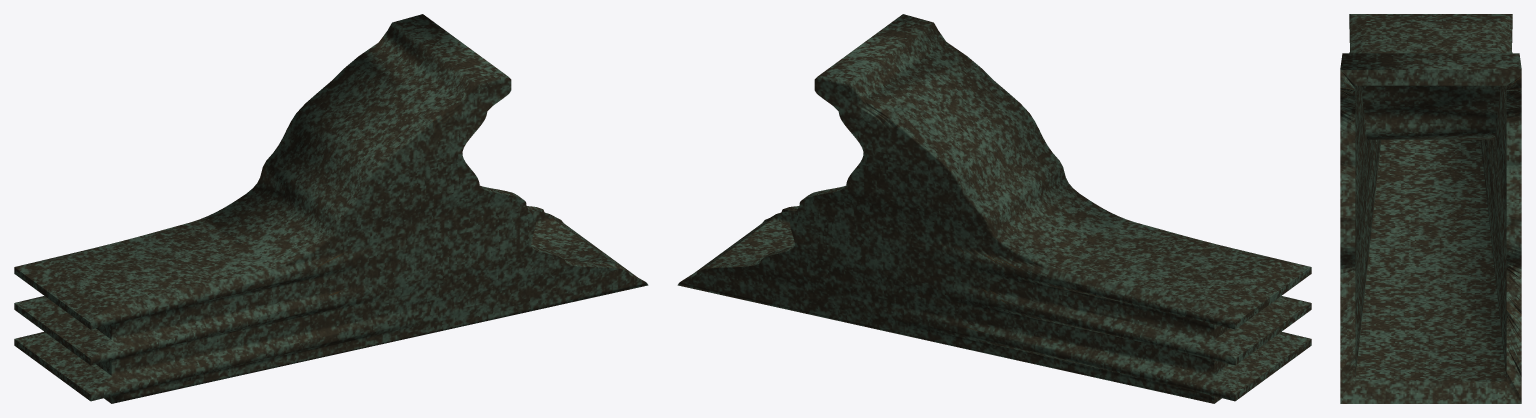
File: NEW693_BronzeRam_LOD2.fbx
3 renders of one model, left to right at view 1: azimuth 30°, elevation 25°; view 2: azimuth 150°, elevation 25°; view 3: azimuth 270°, elevation 25°, orthographic. The views are drawn at different scales.
Visible parts, largest first — view 1: Complete_bronze_ram_artifact_open_aft_socket; view 2: Complete_bronze_ram_artifact_open_aft_socket; view 3: Complete_bronze_ram_artifact_open_aft_socket.
Boxes of the visible parts, x1,y1,x2,y2 form: Complete_bronze_ram_artifact_open_aft_socket: (14,14,648,403); Complete_bronze_ram_artifact_open_aft_socket: (677,14,1311,403); Complete_bronze_ram_artifact_open_aft_socket: (1340,14,1521,403).
Size of the model in its own units: 2.26 by 0.95 by 0.6.
1 material, 1 textured.
